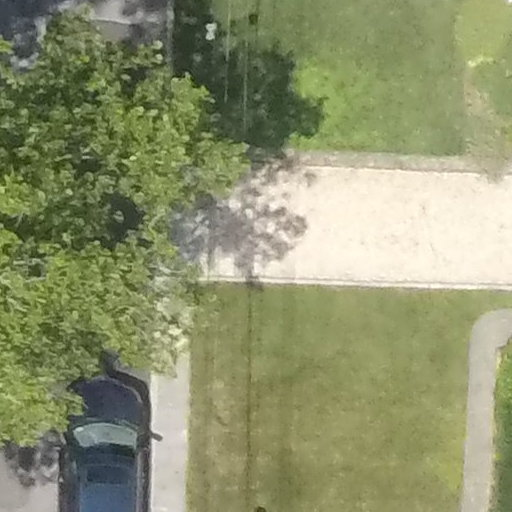car: (54, 356, 155, 512)
driveway: (189, 138, 512, 303)
